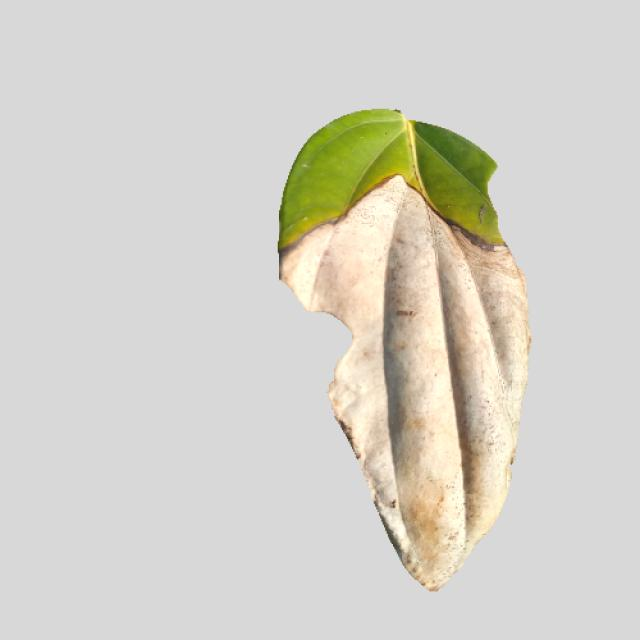leaf-blight: (276, 115, 542, 585)
